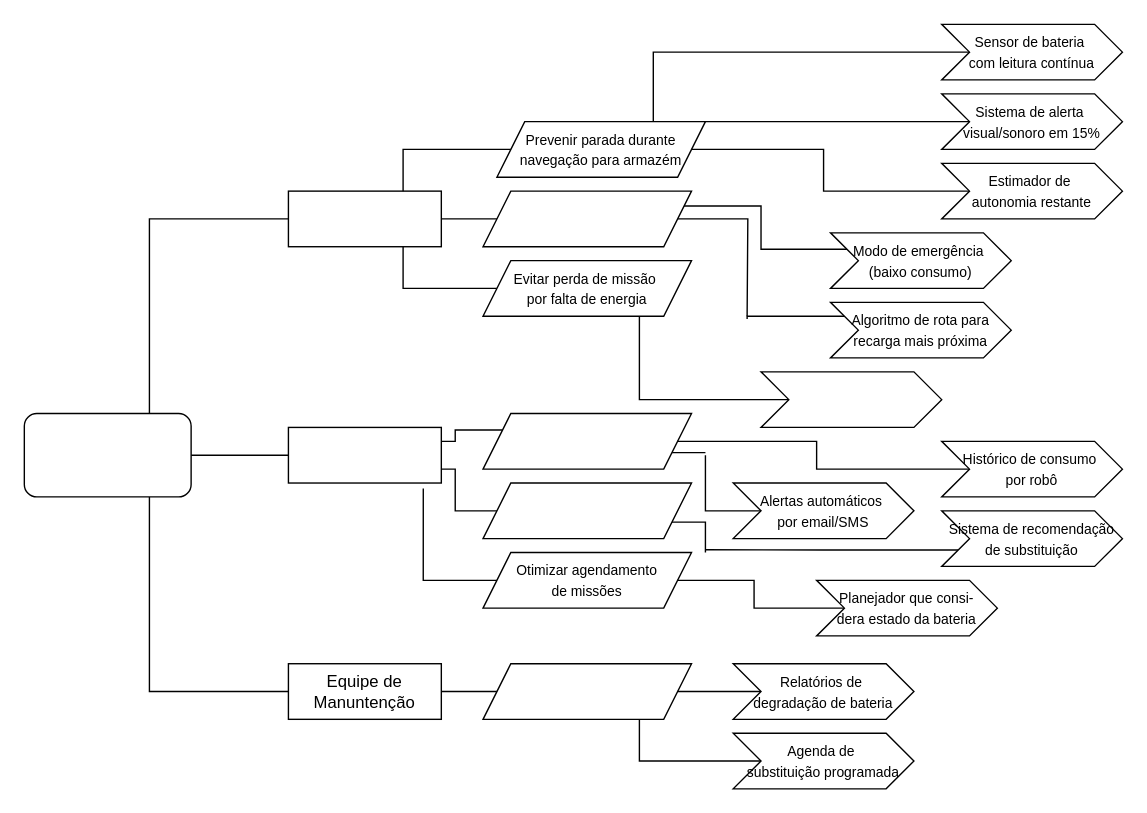
The diagram is 1147 pixels wide and 813 high, and some of its shapes have lost their labels. Each missing label, with the centre of its shape:
Backup de dados da missão em nuvem: [851,398]
Estar com a bateria acima de 10%: [107,454]
Monitorar saúde da frota em tempo real: [587,440]
Permitir retorno seguro à estação de recarga: [587,218]
Realizar manutenção preventiva eficaz: [587,690]
Robô: [364,218]
Sistema de Controle de Missão: [364,454]
Tomar decisões proativas de realocação: [587,510]
